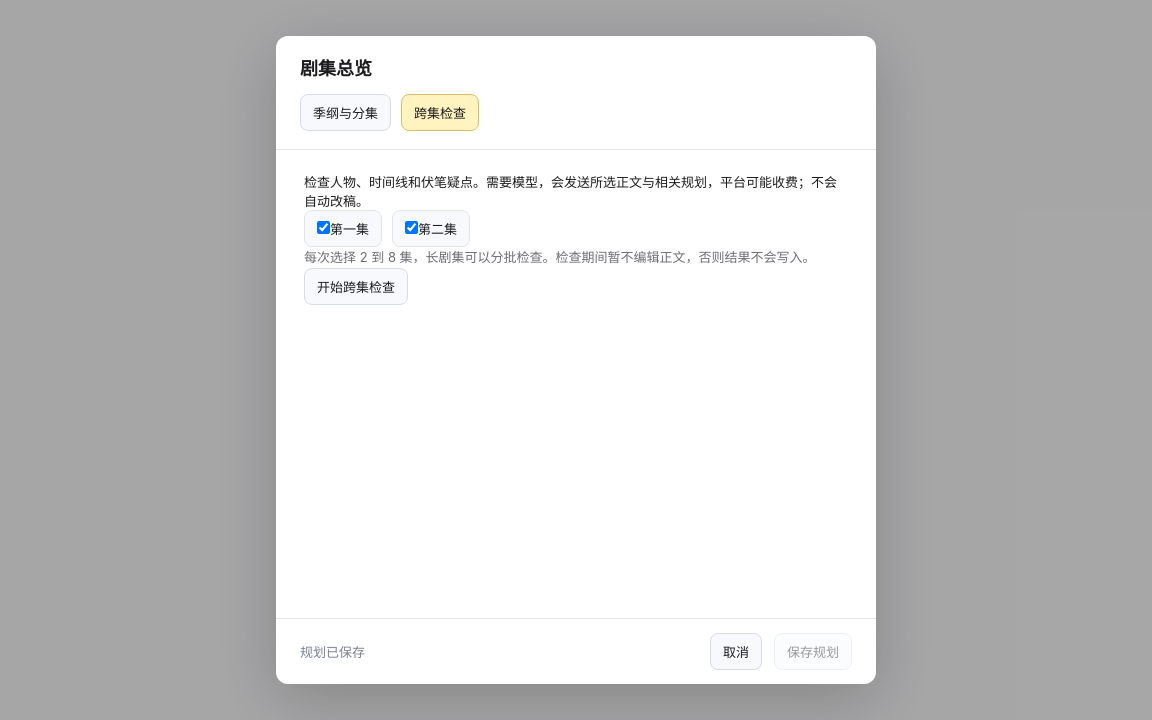
Test: shows model configuration entry when continuity checking lacks a model
Click the button "开始跨集检查".
click(356, 287)  # box [304,268,408,305]
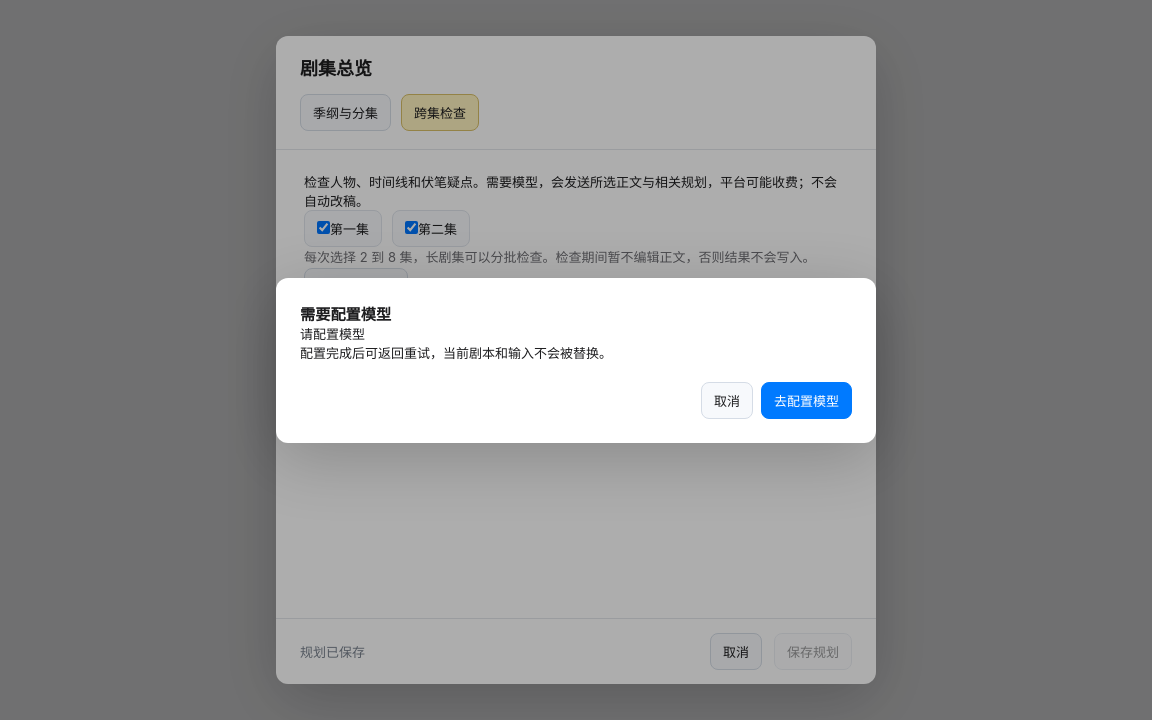
Result: the dialog "需要配置模型" is shown at [276,278,876,442]
Result: the button "去配置模型" is shown at [761,382,852,418]
